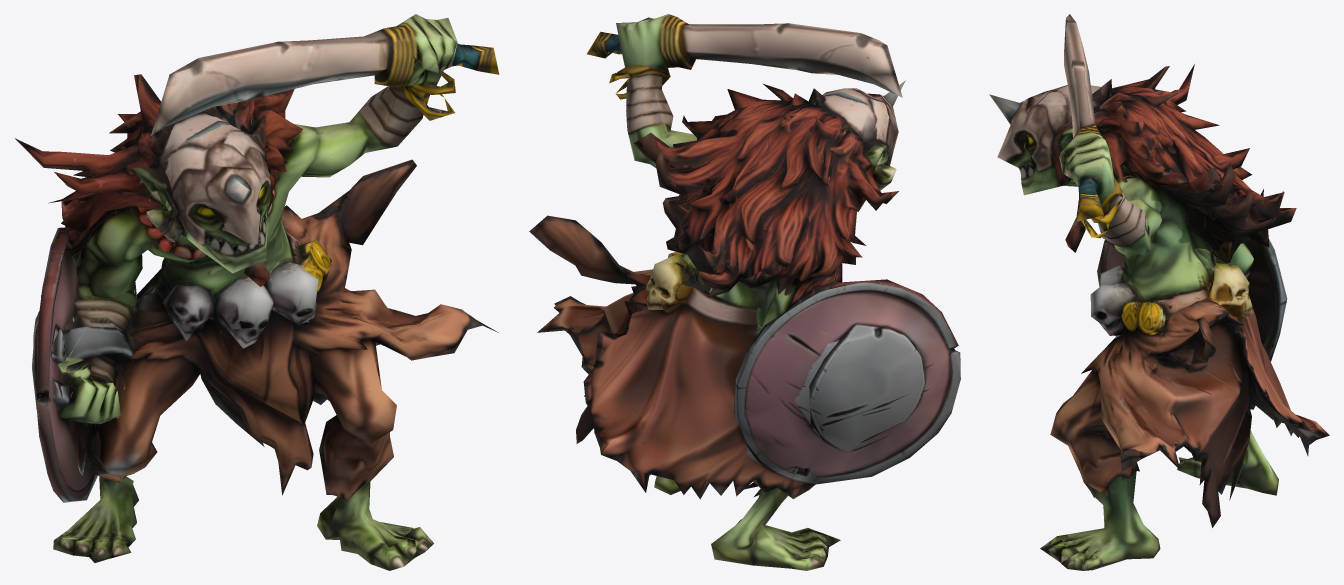
The model's file is goblin.glb.
3 renders of one model, left to right at view 1: azimuth 30°, elevation 25°; view 2: azimuth 150°, elevation 25°; view 3: azimuth 270°, elevation 25°, orthographic. The views are drawn at different scales.
Parts seen in each view (by area): view 1: Mesh1.0; view 2: Mesh1.0; view 3: Mesh1.0.
Part boxes in pixels (x1,y1,x2,y2): Mesh1.0: (15,14,499,570); Mesh1.0: (529,14,960,570); Mesh1.0: (989,14,1329,570).
Bounding box in the file's own units: 1.73 × 1.91 × 1.29.
1 material, 1 textured.
